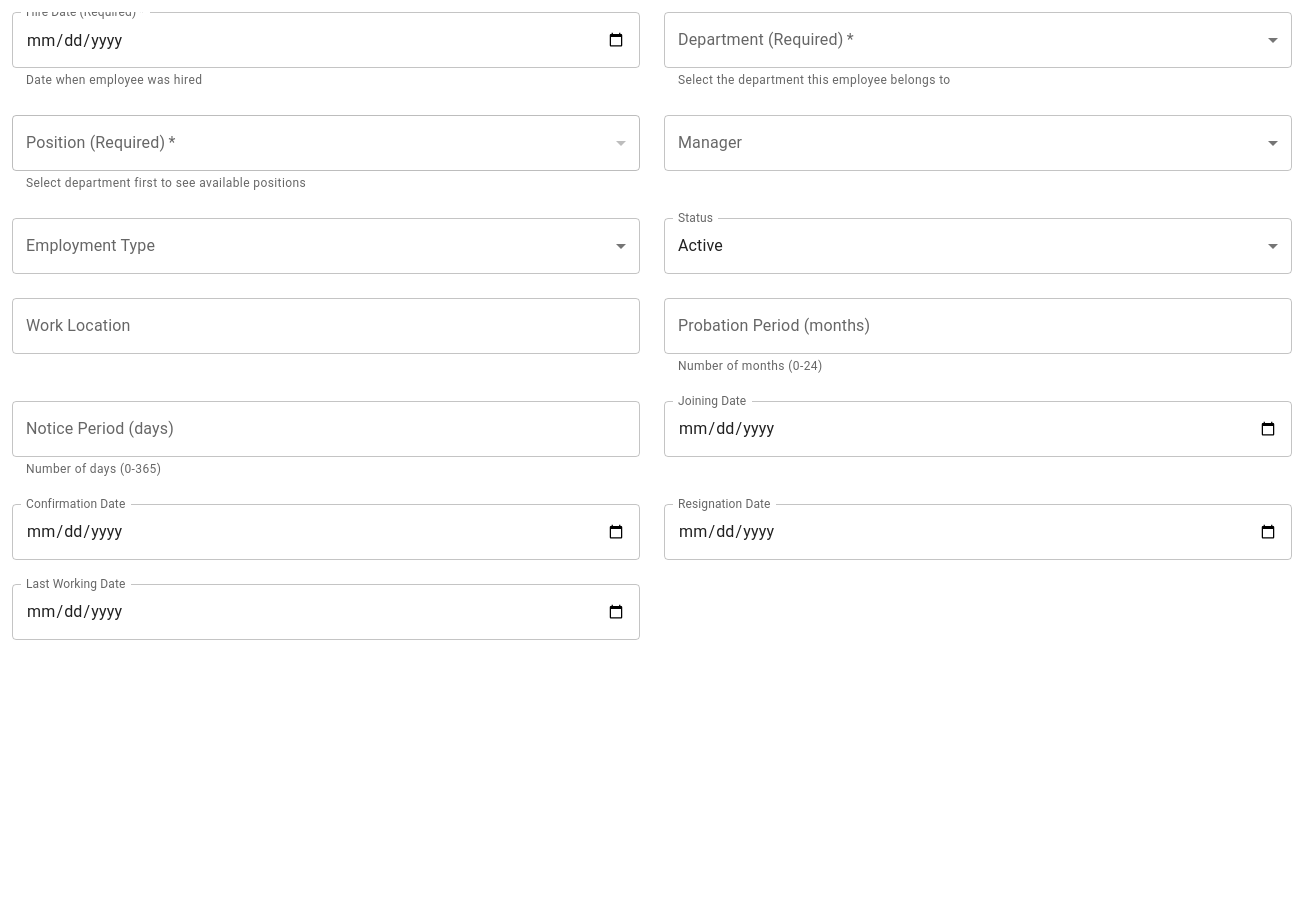
Test: EmploymentInformationTab › Employment Type Select › should have Full-time, Part-time, Contract, Intern options
The width and height of the screenshot is (1304, 912).
Press the mouse on the dropdown with id "employmentType" at (326, 246), box [12, 218, 640, 274]
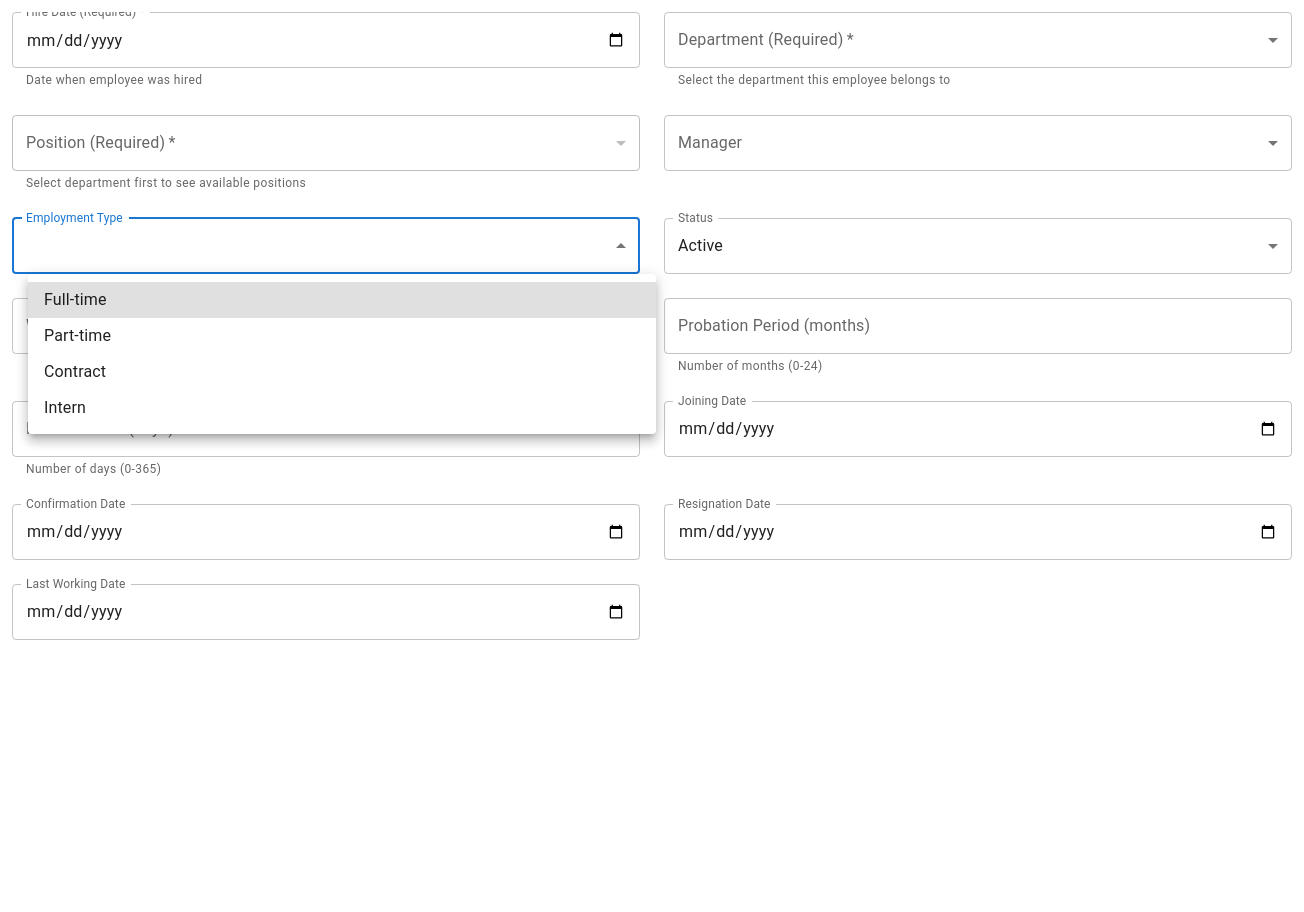
Now the option "Full-time" is shown, box [28, 282, 656, 318]
Now the option "Part-time" is shown, box [44, 326, 111, 345]
Now the option "Contract" is shown, box [44, 362, 106, 381]
